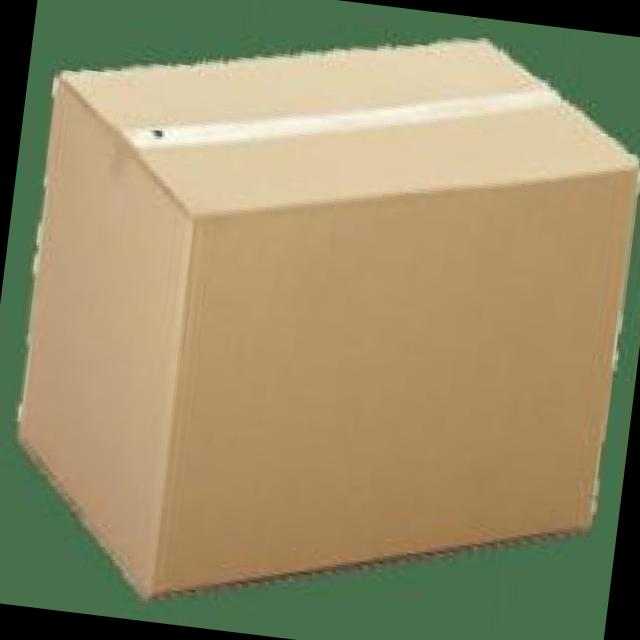box: (16, 36, 635, 604)
